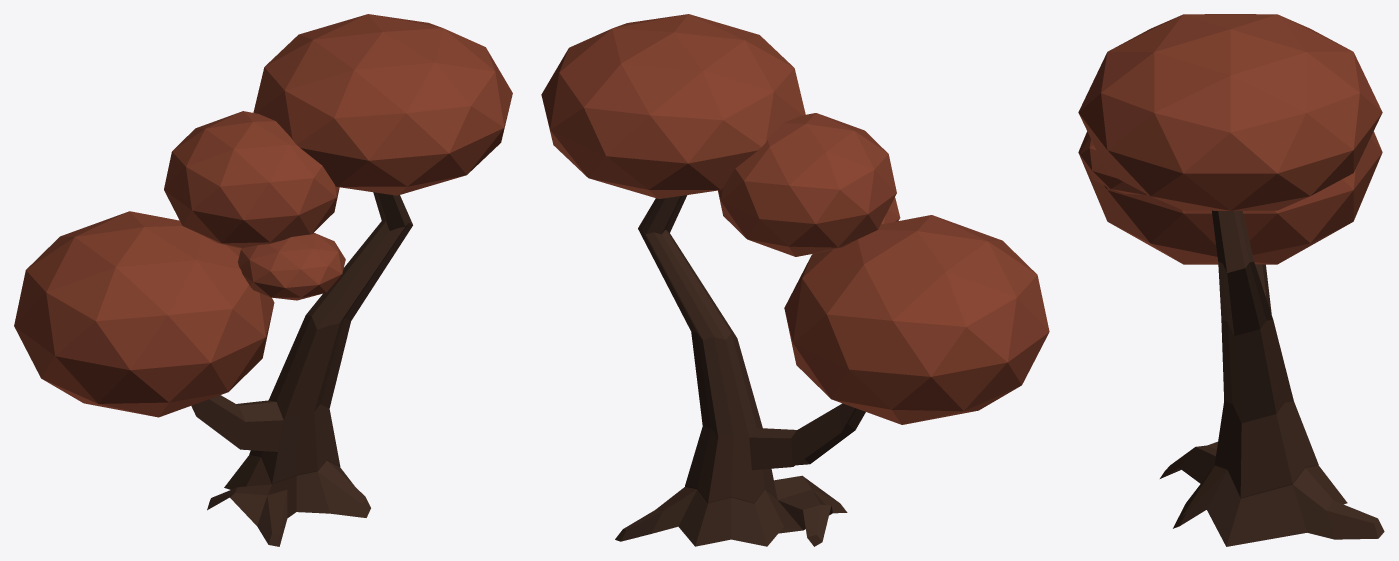
The model's file is Arvore2.fbx.
The picture shows the model from 3 angles, left to right: view 1: azimuth 30°, elevation 25°; view 2: azimuth 150°, elevation 25°; view 3: azimuth 270°, elevation 25°; orthographic projection. The views are drawn at different scales.
Parts seen in each view (by area): view 1: Cylinder; view 2: Cylinder; view 3: Cylinder.
Part boxes in pixels (x1,y1,x2,y2): Cylinder: (14,14,512,546); Cylinder: (541,14,1049,546); Cylinder: (1078,14,1384,546).
Size of the model in its own units: 690 by 666 by 350.
